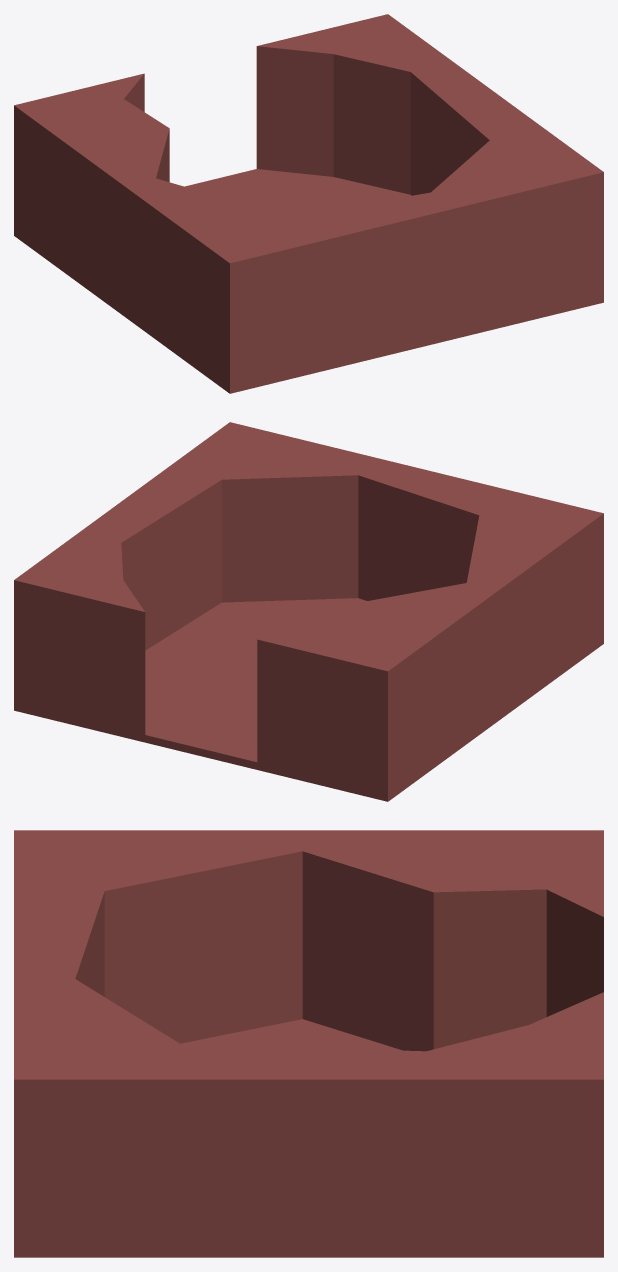
The model's file is MDL_End.fbx.
3 views of the same model, one above another, from view 1: azimuth 30°, elevation 25°; view 2: azimuth 150°, elevation 25°; view 3: azimuth 270°, elevation 25° (orthographic). The views are drawn at different scales.
Visible parts, largest first — view 1: wall.012; view 2: wall.012; view 3: wall.012.
Boxes of the visible parts, x1,y1,x2,y2 form: wall.012: [14, 14, 603, 393]; wall.012: [14, 422, 603, 801]; wall.012: [14, 830, 603, 1257].
Bounding box in the file's own units: 1500 × 500 × 1500.
